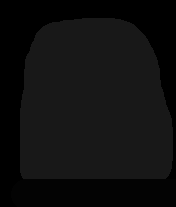fp: (7, 16, 173, 176)
